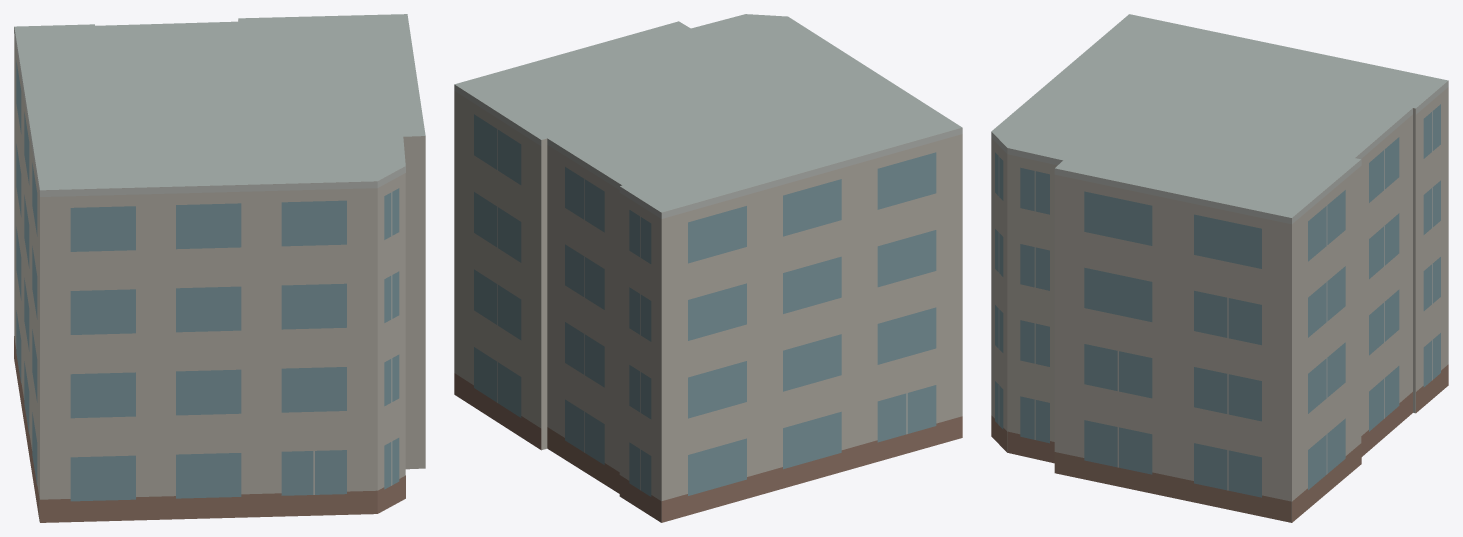
File: survey-upis-32476137.glb
The picture shows the model from 3 angles, left to right: view 1: azimuth 30°, elevation 25°; view 2: azimuth 150°, elevation 25°; view 3: azimuth 270°, elevation 25°; orthographic projection. The views are drawn at different scales.
Visible parts, largest first — view 1: survey-upis-32476137.tmp; view 2: survey-upis-32476137.tmp; view 3: survey-upis-32476137.tmp.
Boxes of the visible parts, box(x1,y1,x2,y2) form: survey-upis-32476137.tmp: box(14, 14, 425, 522); survey-upis-32476137.tmp: box(454, 14, 962, 522); survey-upis-32476137.tmp: box(991, 14, 1448, 522).
Bounding box in the file's own units: 17.1 × 11.9 × 16.19.
